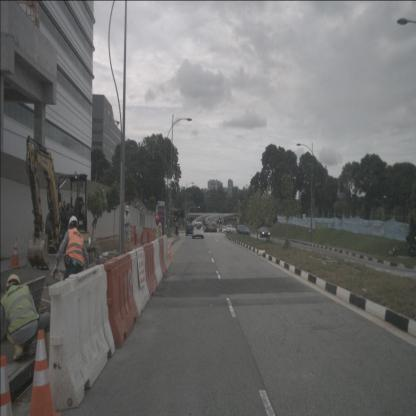movable_object-barrier: (40, 264, 115, 413), (104, 254, 139, 348), (126, 247, 150, 318), (124, 226, 159, 253), (141, 243, 158, 298), (150, 239, 162, 287), (156, 237, 167, 278), (163, 234, 170, 272)
movable_object-trafficcone: (22, 330, 62, 416), (0, 355, 17, 415), (9, 238, 21, 268), (166, 240, 173, 263)
vehicle-car: (192, 222, 204, 238), (260, 227, 270, 238), (186, 224, 194, 236), (236, 225, 244, 234), (211, 222, 217, 232), (226, 225, 233, 233), (244, 228, 250, 236), (205, 225, 210, 233), (219, 225, 224, 233), (222, 226, 227, 233)
vehicle-motorcycle: (406, 232, 416, 258), (175, 222, 179, 237)
